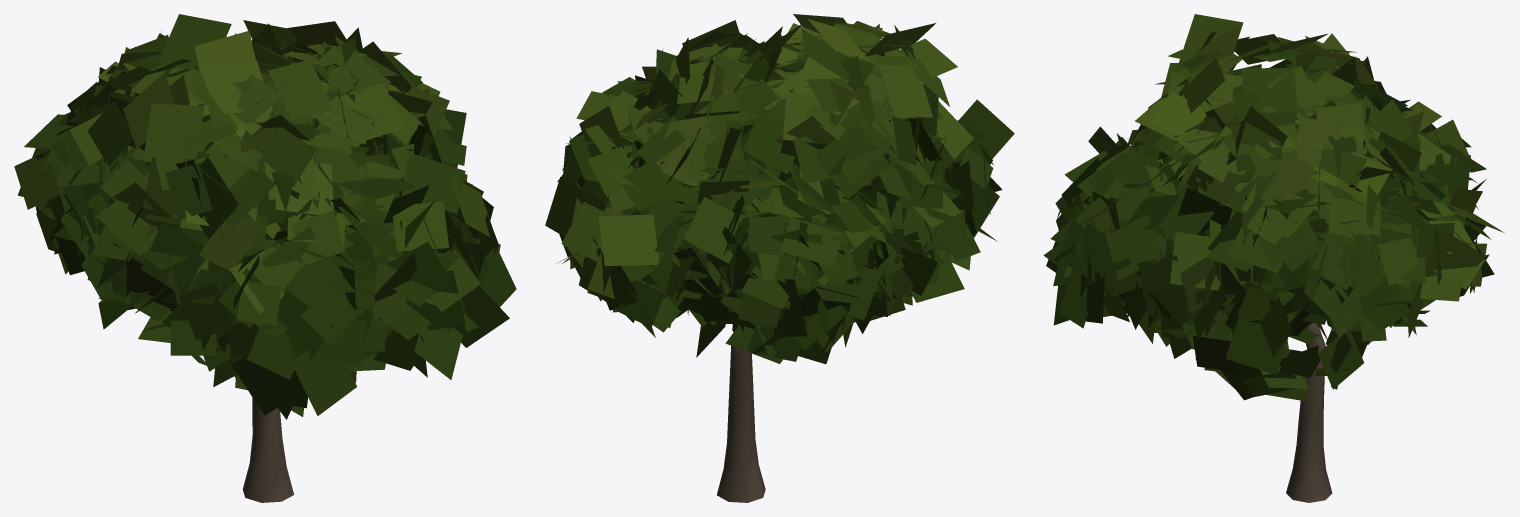
File: PLN_Broadleaf_Oak.fbx
3 views of the same model, side by side, from view 1: azimuth 30°, elevation 25°; view 2: azimuth 150°, elevation 25°; view 3: azimuth 270°, elevation 25° (orthographic). The views are drawn at different scales.
Parts seen in each view (by area): view 1: PLN_Broadleaf_Oak; view 2: PLN_Broadleaf_Oak; view 3: PLN_Broadleaf_Oak.
Boxes of the visible parts, x1,y1,x2,y2 form: PLN_Broadleaf_Oak: (14,14,516,502); PLN_Broadleaf_Oak: (545,14,1014,502); PLN_Broadleaf_Oak: (1043,14,1504,502).
Bounding box in the file's own units: 8.2 × 9.75 × 9.52.
